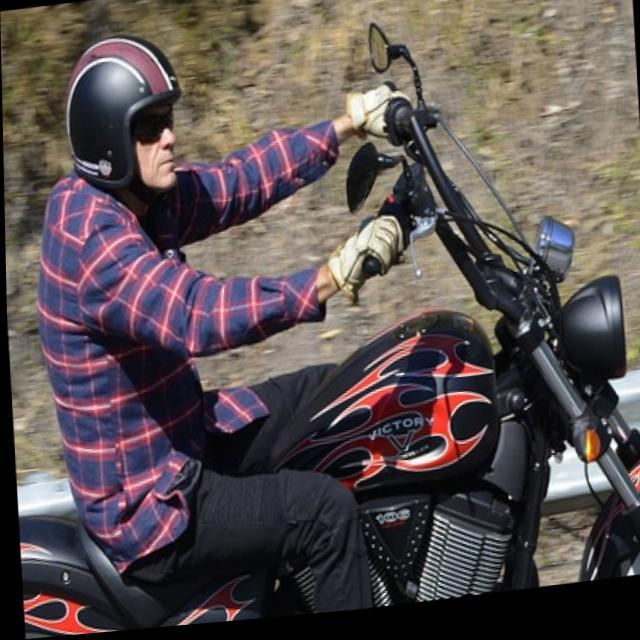Helmet: (55, 23, 188, 205)
